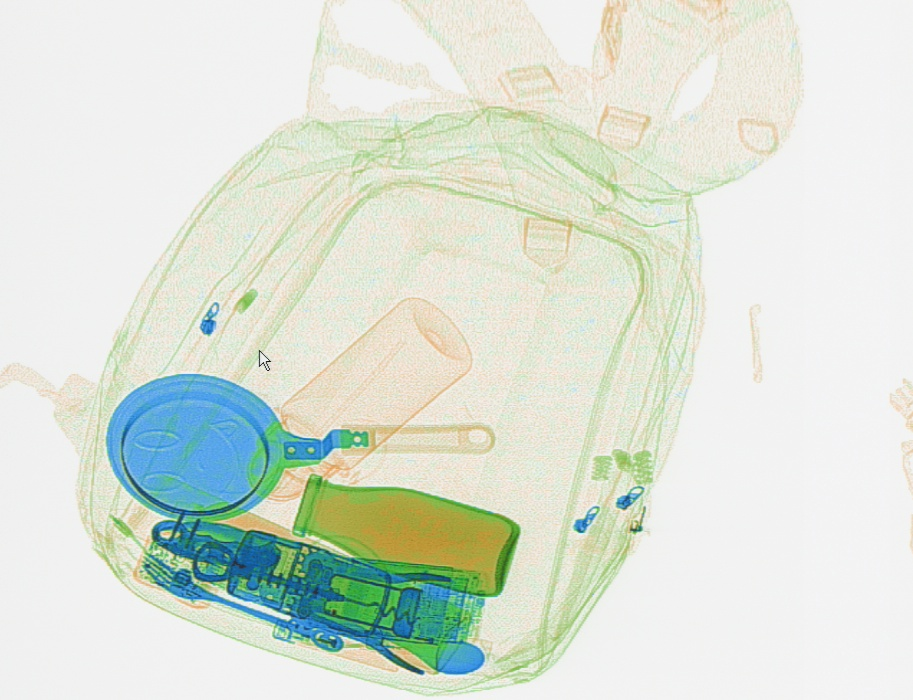knife: (147, 516, 282, 580)
lighter: (270, 615, 402, 673)
